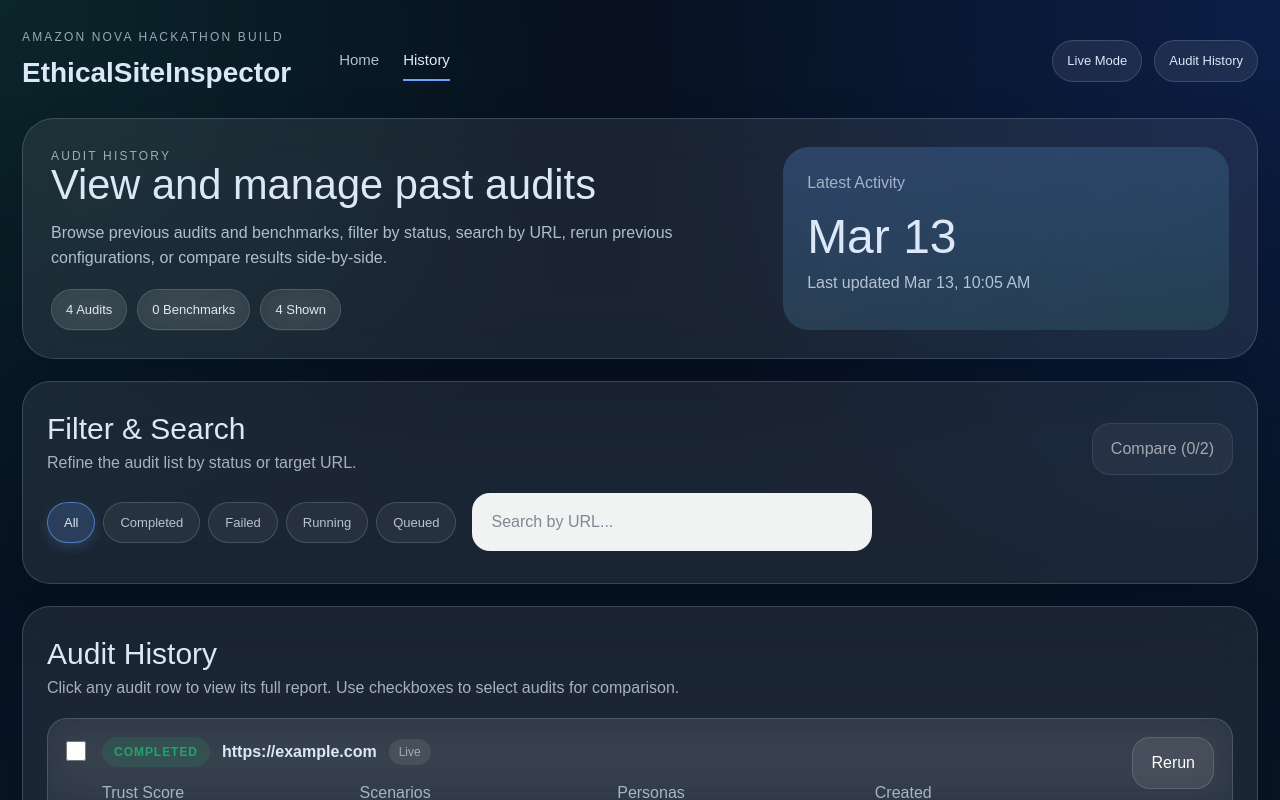
HistoryPage › handles all status filter options
Expected: the text "completed" is shown, [102,737,210,767]
Expected: the tab "All" is shown, [47,502,96,543]
Click the tab "Failed".
click(243, 522)  # box [208,502,278,543]
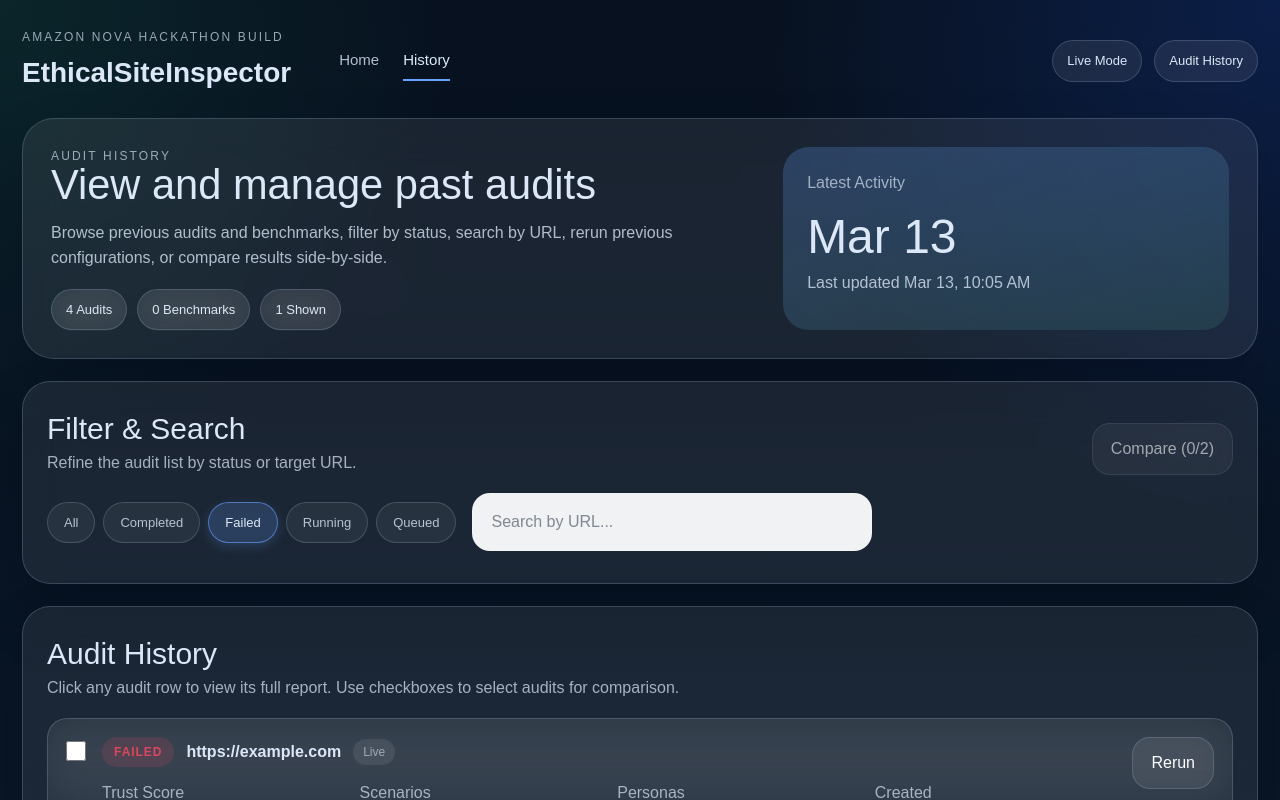
Result: the text "https://example.com" is shown once at [186,740,341,764]
